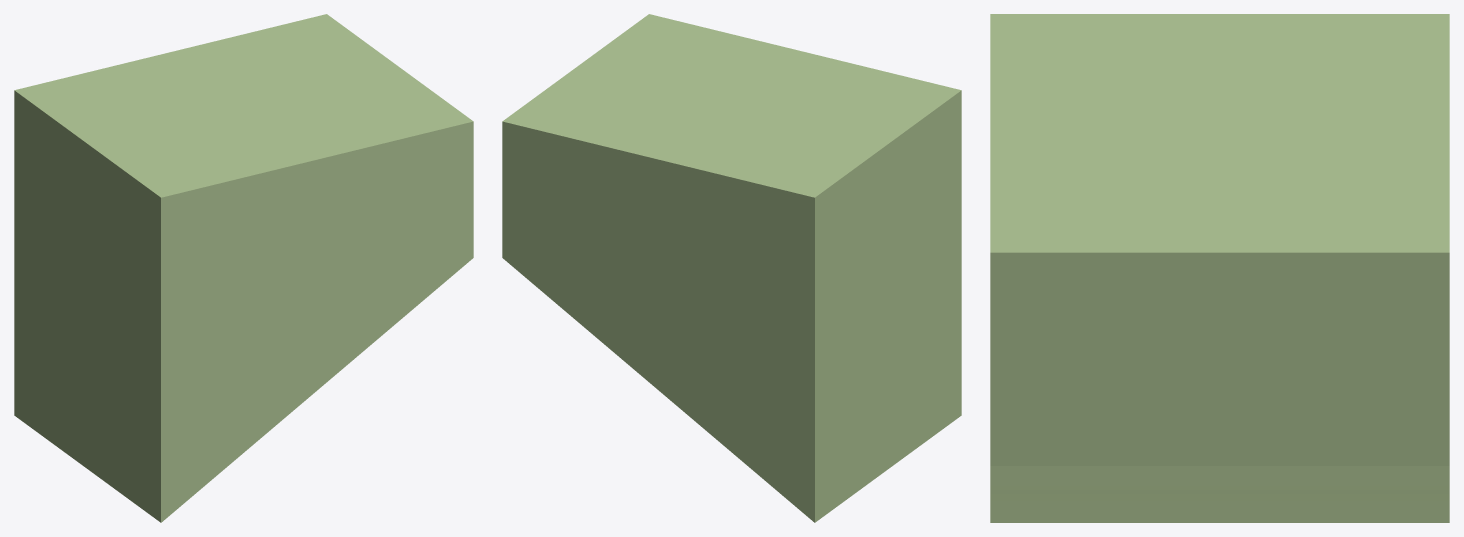
Rendered from stone_element_15_wall.fbx.
3 renders of one model, left to right at view 1: azimuth 30°, elevation 25°; view 2: azimuth 150°, elevation 25°; view 3: azimuth 270°, elevation 25°, orthographic. The views are drawn at different scales.
Visible parts, largest first — view 1: stone_element_15_wall; view 2: stone_element_15_wall; view 3: stone_element_15_wall.
Part boxes in pixels (x1=…): stone_element_15_wall: x1=14, y1=14, x2=473, y2=522; stone_element_15_wall: x1=502, y1=14, x2=961, y2=522; stone_element_15_wall: x1=990, y1=14, x2=1449, y2=522.
Bounding box in the file's own units: 147 × 147 × 120.
